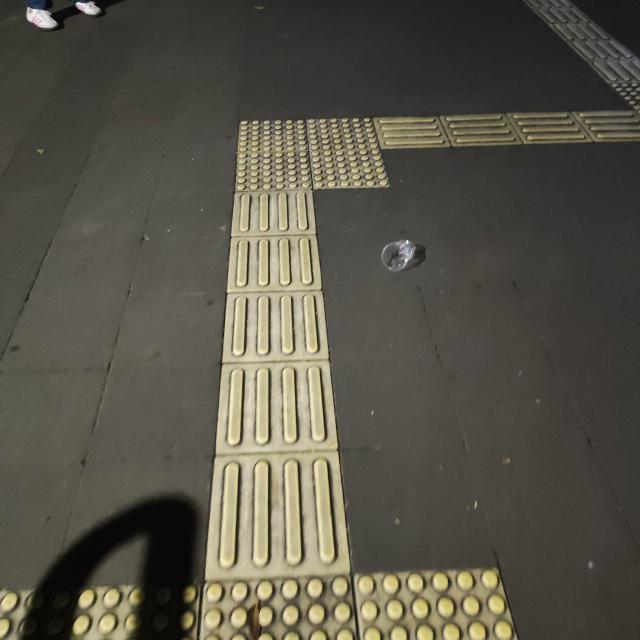kanan: (192, 80, 521, 250)
